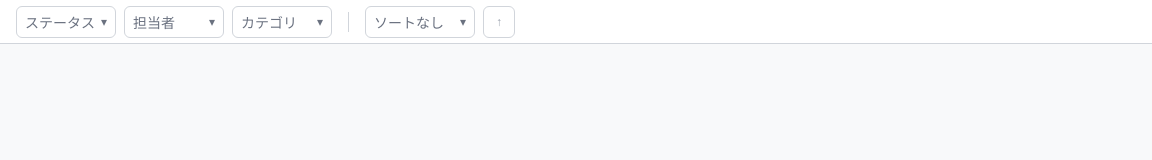
Test: FilterBar › dropdown options › extracts category options from board data
Step 1. Click the button with aria-label "カテゴリフィルタ" → (282, 22), box left=232, top=6, right=332, bottom=38
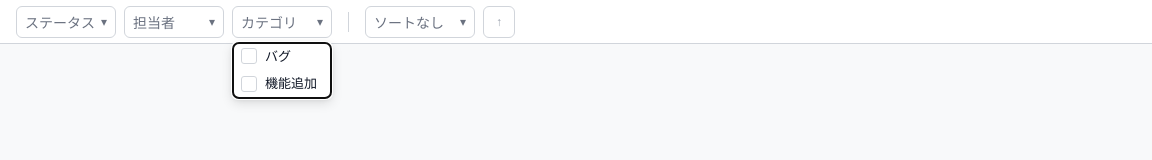
Check: the text "バグ" is shown, box left=265, top=46, right=291, bottom=66
Check: the text "機能追加" is shown, box left=265, top=74, right=317, bottom=94
